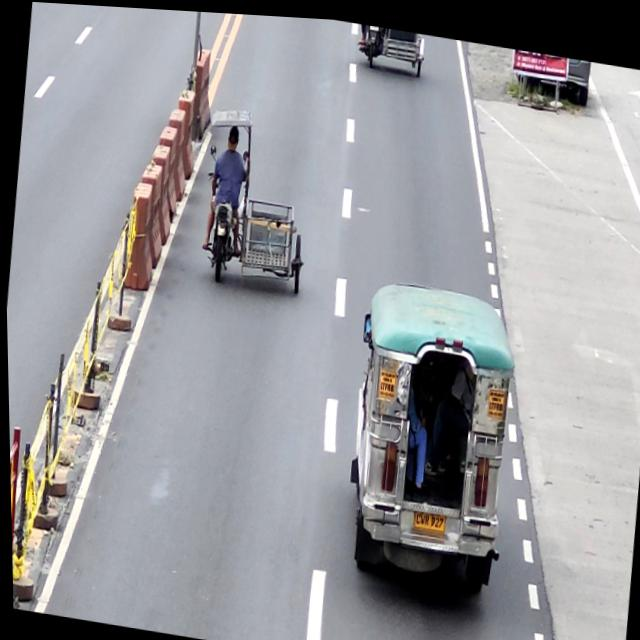Jeep: (330, 269, 526, 611)
License-Plate: (409, 503, 443, 528)
Tricycle: (192, 104, 317, 294), (354, 19, 428, 74)
